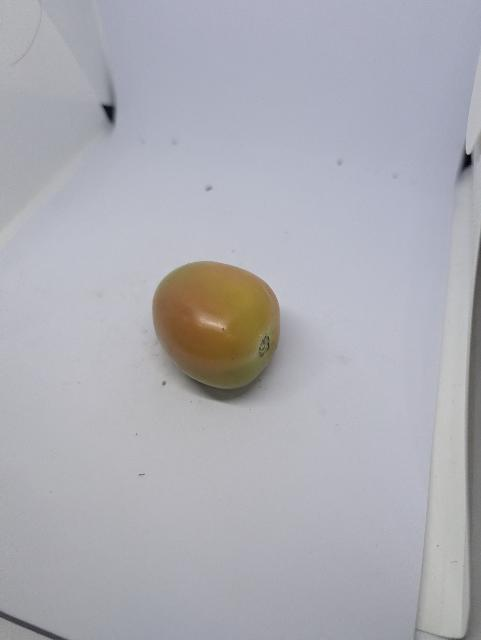breaker: (153, 261, 281, 389)
